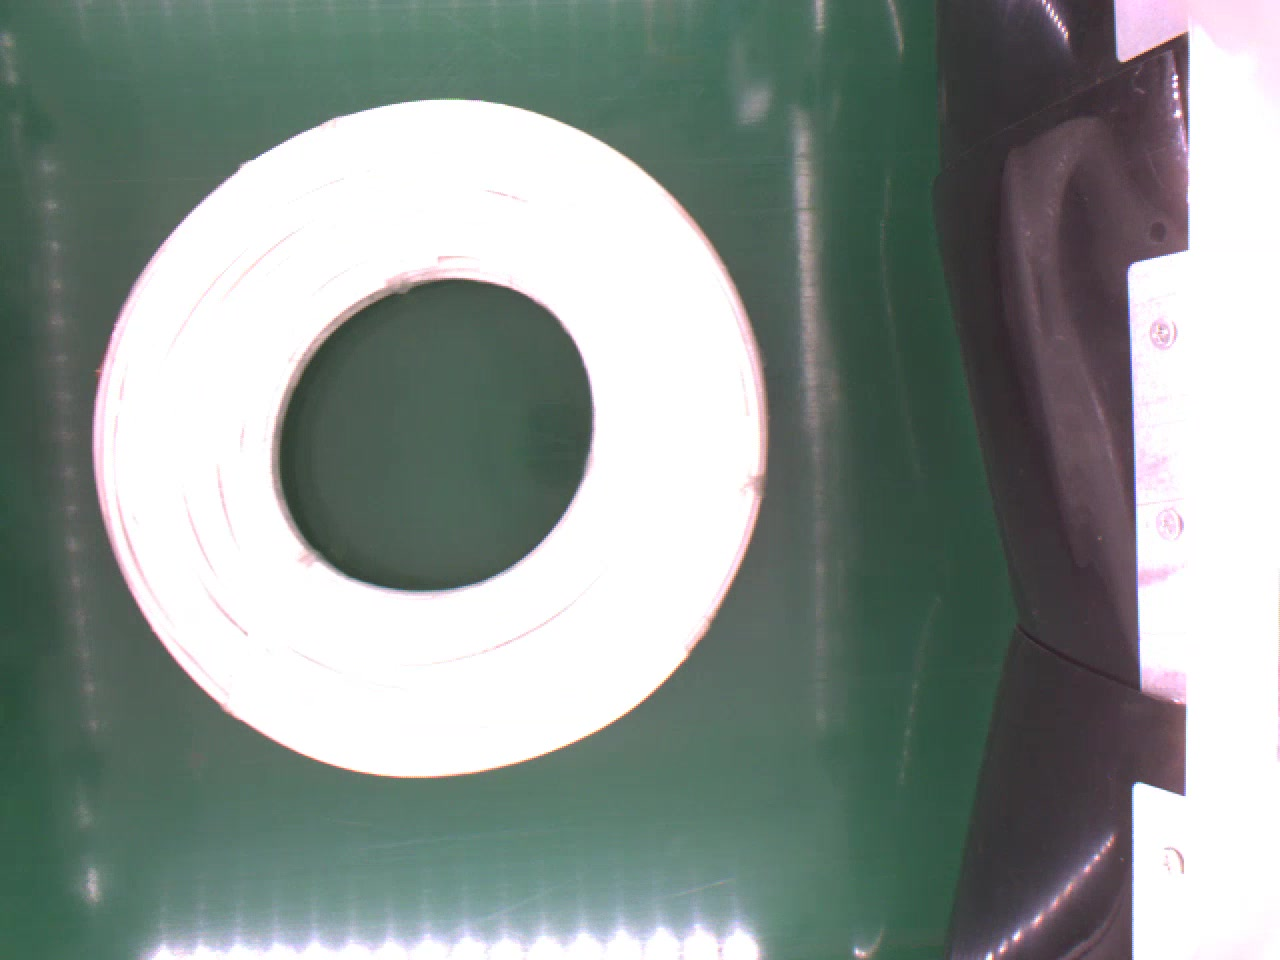white: (88, 95, 772, 789)
